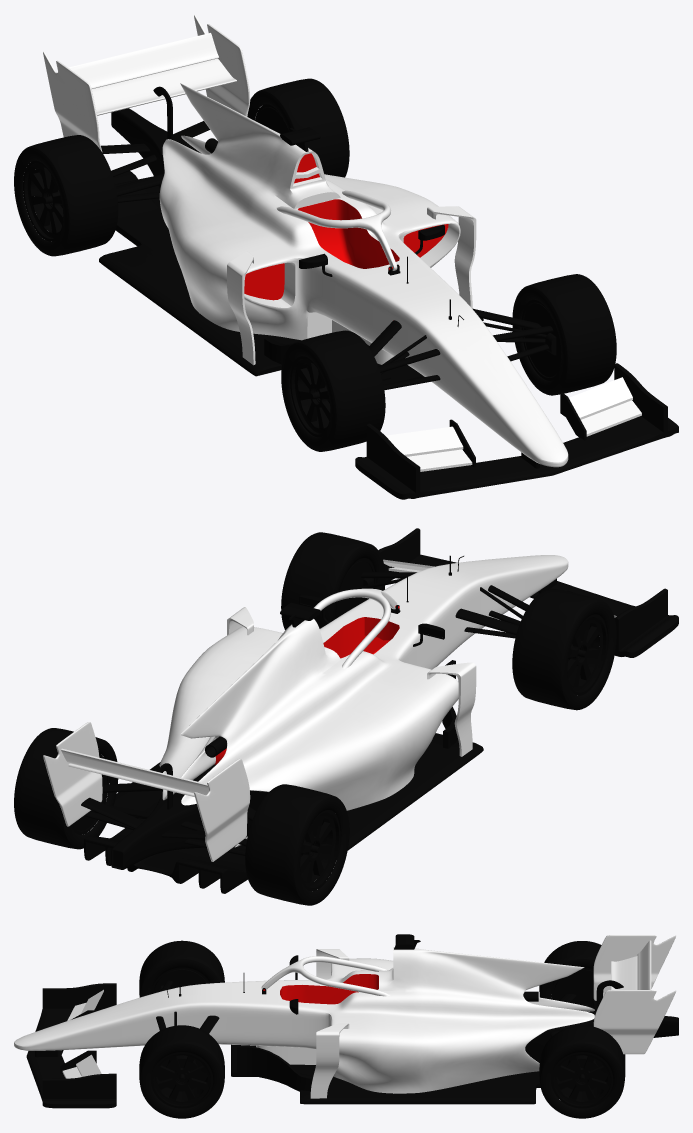
The model's file is Women_accessory_Haas_5000.d29fae70.glb.
3 views of the same model, one above another, from view 1: azimuth 30°, elevation 25°; view 2: azimuth 150°, elevation 25°; view 3: azimuth 270°, elevation 25° (orthographic). The views are drawn at different scales.
Visible parts, largest first — view 1: _gltfNode_0, _gltfNode_3, _gltfNode_13, _gltfNode_16, _gltfNode_4, _gltfNode_2, _gltfNode_10, _gltfNode_1, _gltfNode_14, _gltfNode_17; view 2: _gltfNode_0, _gltfNode_3, _gltfNode_16, _gltfNode_13, _gltfNode_4, _gltfNode_17, _gltfNode_14, _gltfNode_2, _gltfNode_10; view 3: _gltfNode_0, _gltfNode_3, _gltfNode_13, _gltfNode_4, _gltfNode_16, _gltfNode_10, _gltfNode_14, _gltfNode_17, _gltfNode_2, _gltfNode_9.
Boxes of the visible parts, x1,y1,x2,y2 form: _gltfNode_0: (43,14,641,471); _gltfNode_3: (99,86,553,468); _gltfNode_13: (281,274,616,451); _gltfNode_16: (14,78,349,256); _gltfNode_4: (355,363,678,499); _gltfNode_2: (298,199,399,268); _gltfNode_10: (47,107,561,401); _gltfNode_1: (244,153,448,300); _gltfNode_14: (290,299,561,437); _gltfNode_17: (23,104,284,241); _gltfNode_0: (43,555,616,861); _gltfNode_3: (81,555,556,893); _gltfNode_16: (14,728,349,905); _gltfNode_13: (281,532,616,710); _gltfNode_4: (378,528,678,657); _gltfNode_17: (71,754,340,890); _gltfNode_14: (336,558,607,695); _gltfNode_2: (323,617,399,658); _gltfNode_10: (72,561,583,855); _gltfNode_0: (14,935,676,1098); _gltfNode_3: (35,934,678,1104); _gltfNode_13: (139,940,224,1118); _gltfNode_4: (26,983,116,1108); _gltfNode_16: (539,941,625,1118); _gltfNode_10: (153,969,607,1089); _gltfNode_14: (151,967,213,1108); _gltfNode_17: (551,967,613,1108); _gltfNode_2: (280,974,378,1004); _gltfNode_9: (164,1058,600,1091).
Bounding box in the file's own units: 170 × 99.24 × 463.
